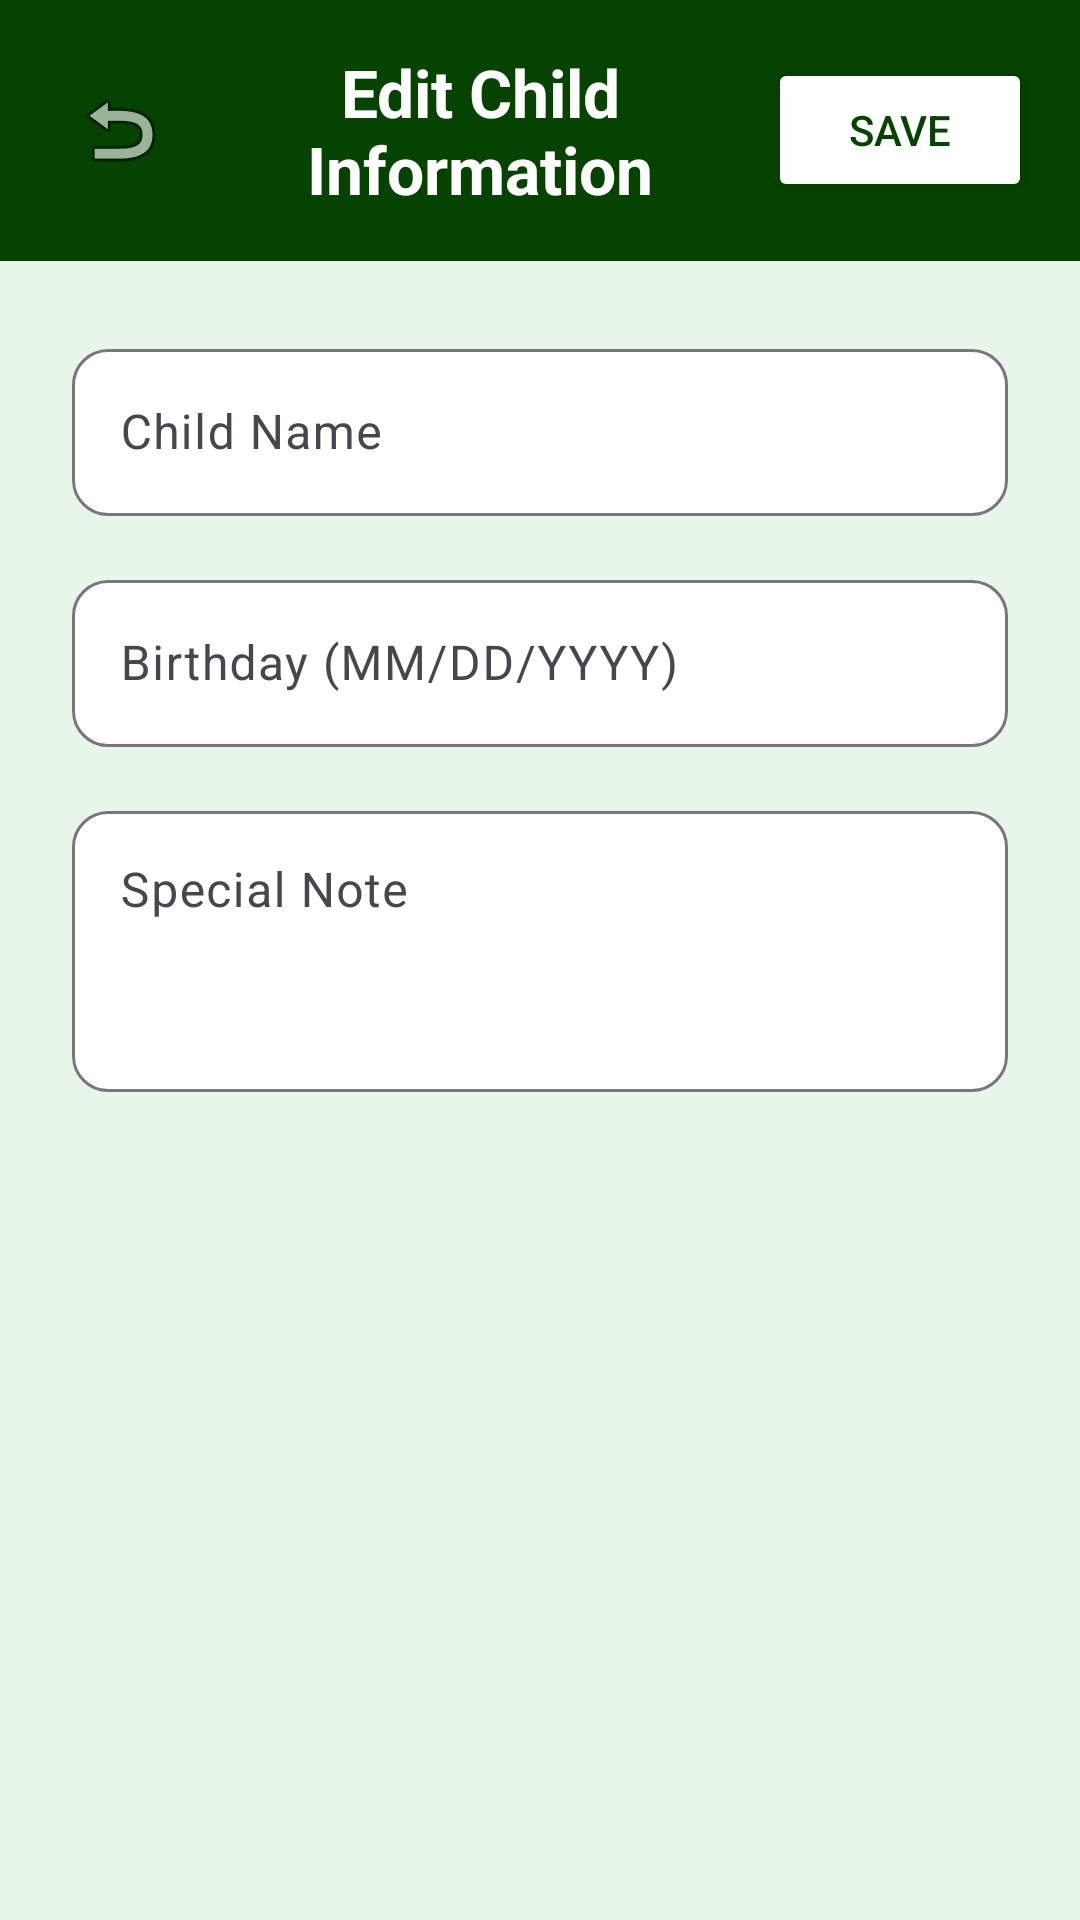

Icon bounding boxes for this 1080 x 1920 phone screenshot, format {"x1": x1, "y1": y1, "x2": x2, "y2": y2}:
Back: {"x1": 87, "y1": 100, "x2": 155, "y2": 161}
